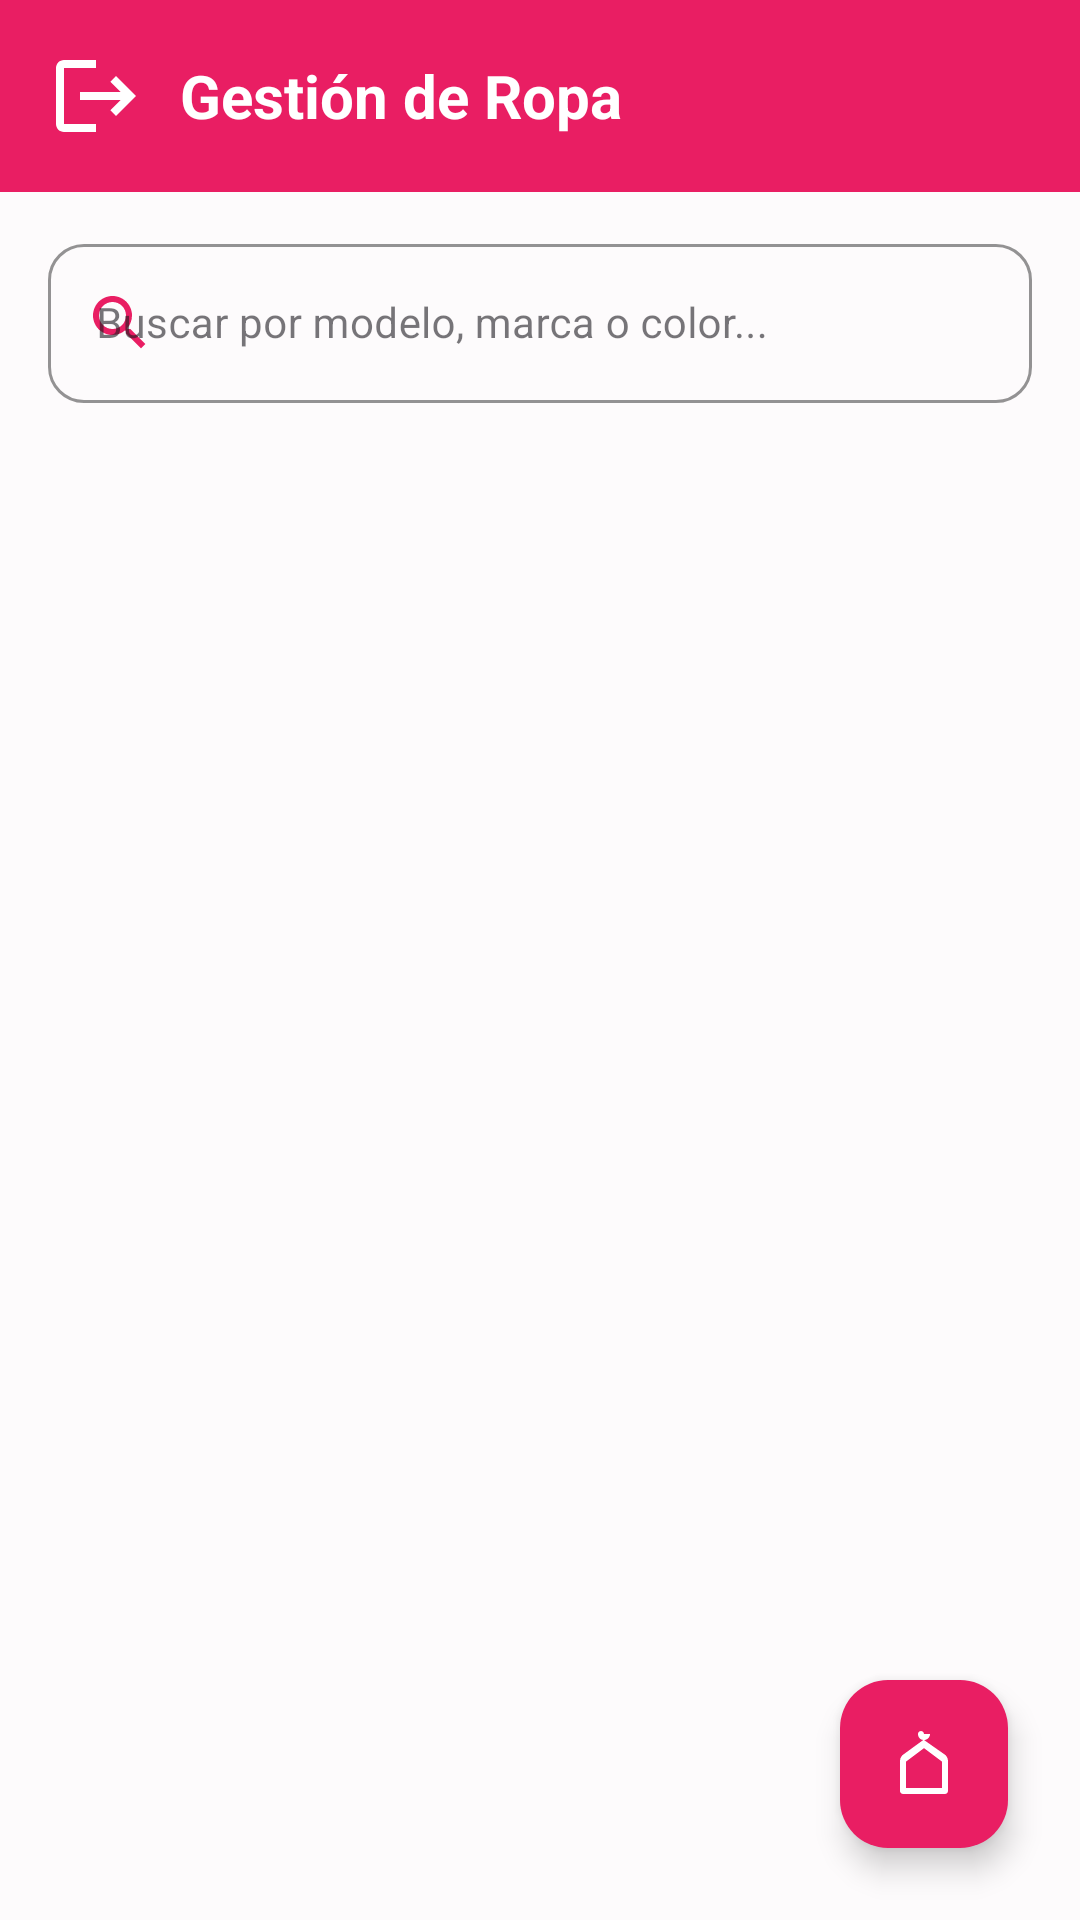

Icons on this 1080w x 1920h Android screen, each with its box as Rect(x1, y1, x2, y2):
ropa: Rect(840, 1680, 1008, 1848)
